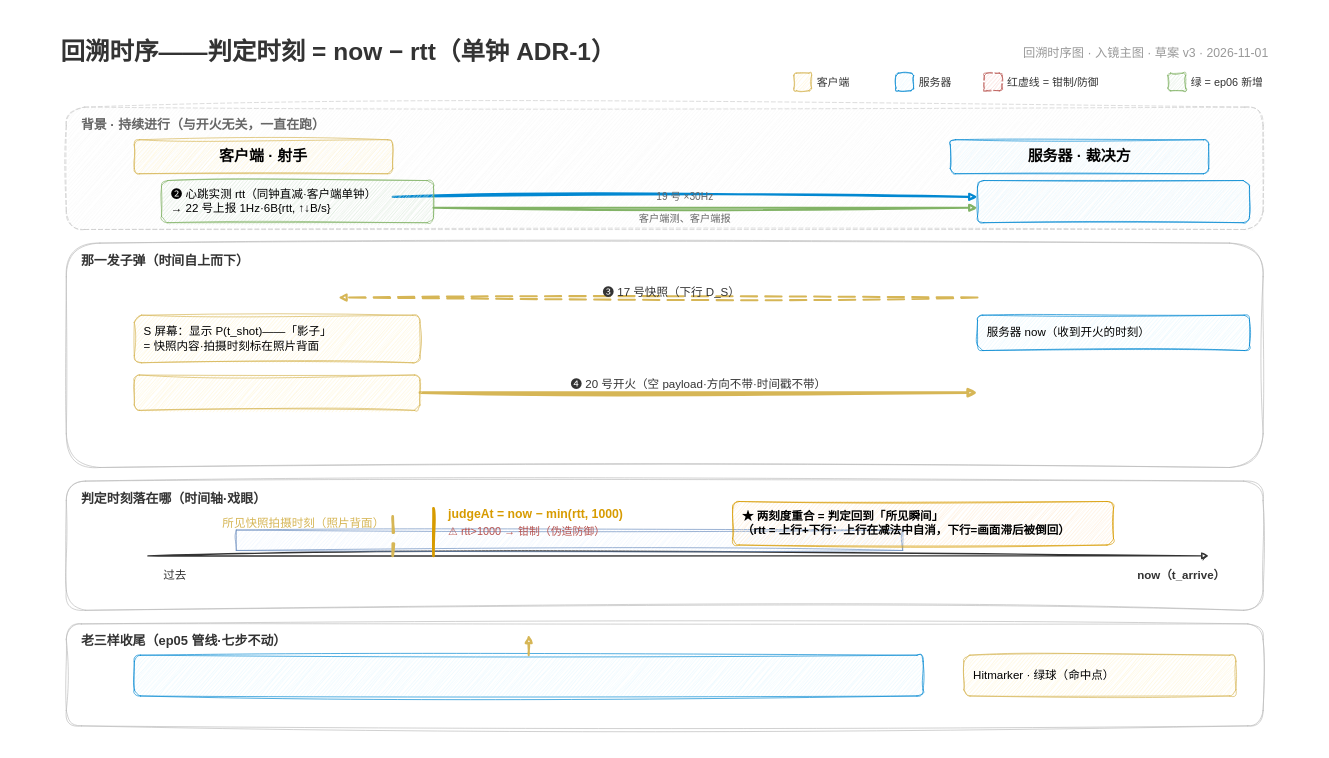
Image size: 1329x758. Some labels were removed from this diagram. Here are the shapes that lost their labels. From the top down, the box of each, then its label:
(977, 180, 1250, 223): ❶ 历史环（ep06）：19 号 ×30Hz → 权威位+接收时刻 32 槽 ≈ 1.07s 窗口·新盖最老
(134, 374, 420, 410): S 按键（所见=影子·瞄准它）
(236, 529, 903, 550): 历史环可覆盖的窗口（1.07s）
(134, 654, 923, 696): 插值采样 V@judgeAt（相邻两格线性插值·钳最老/最新） → 先问墙再问人（r=34/h=88） → 扣 25 血钳 0 → 21 号 22B 广播
